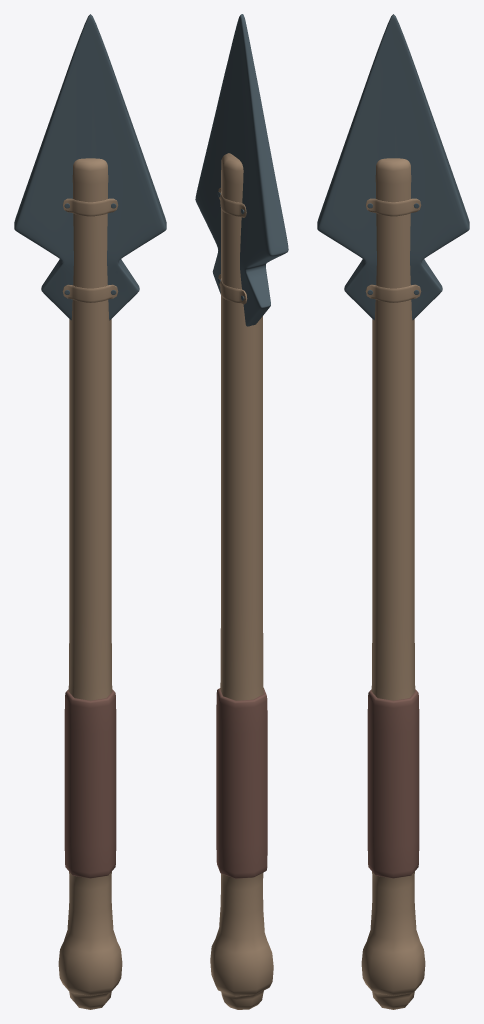
File: Spear.fbx
The picture shows the model from 3 angles, left to right: view 1: azimuth 90°, elevation 25°; view 2: azimuth 210°, elevation 25°; view 3: azimuth 270°, elevation 25°; orthographic projection.
Visible parts, largest first — view 1: Spear; view 2: Spear; view 3: Spear.
Boxes of the visible parts, x1,y1,x2,y2 form: Spear: [14, 14, 166, 1009]; Spear: [195, 14, 288, 1009]; Spear: [317, 14, 469, 1009].
Bounding box in the file's own units: 64.24 × 1101 × 153.
